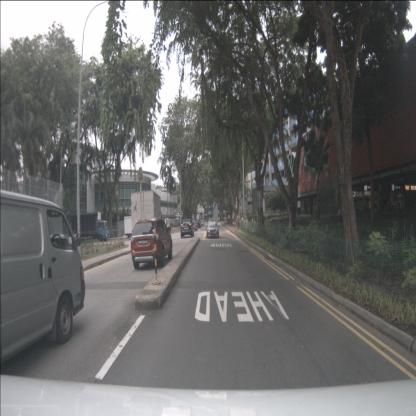human-pedestrian-adult: (170, 220, 172, 233), (172, 221, 174, 233), (166, 221, 168, 231)
vehicle-car: (0, 188, 86, 365), (130, 217, 172, 269), (180, 219, 194, 238), (207, 220, 219, 238), (190, 220, 198, 231), (194, 219, 201, 228), (200, 216, 204, 226)
vehicle-truck: (131, 190, 162, 252), (67, 211, 110, 243), (124, 215, 149, 240)
